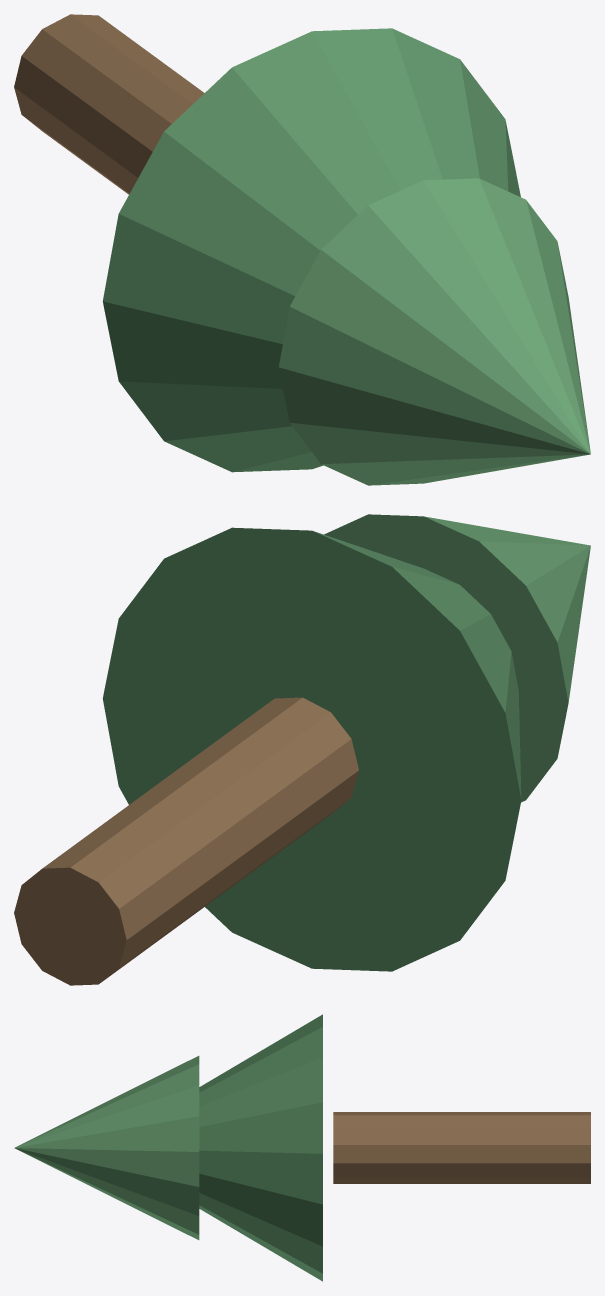
Rendered from large_oak_tree.glb.
3 renders of one model, top to bottom at view 1: azimuth 30°, elevation 25°; view 2: azimuth 150°, elevation 25°; view 3: azimuth 270°, elevation 25°, orthographic. The views are drawn at different scales.
Parts seen in each view (by area): view 1: LeavesBottom, LeavesTop, Trunk; view 2: LeavesBottom, Trunk, LeavesTop; view 3: LeavesBottom, Trunk, LeavesTop.
Part boxes in pixels (x1,y1,x2,y2): LeavesBottom: (102,28,520,472); LeavesTop: (278,178,590,485); Trunk: (14,14,204,194); LeavesBottom: (102,527,521,971); Trunk: (14,697,358,985); LeavesTop: (324,514,590,802); LeavesBottom: (199,1014,322,1281); Trunk: (333,1112,590,1183); LeavesTop: (14,1056,199,1239).
Size of the model in its own units: 2.6 by 2.6 by 5.6.
